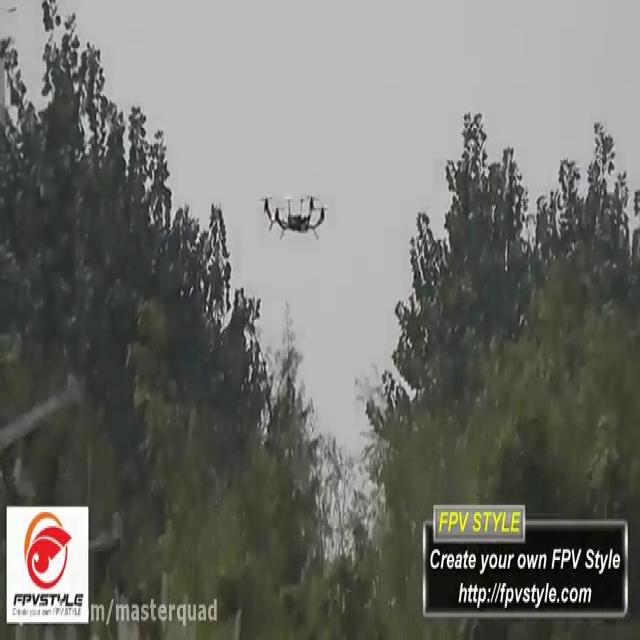drone: (257, 183, 330, 242)
